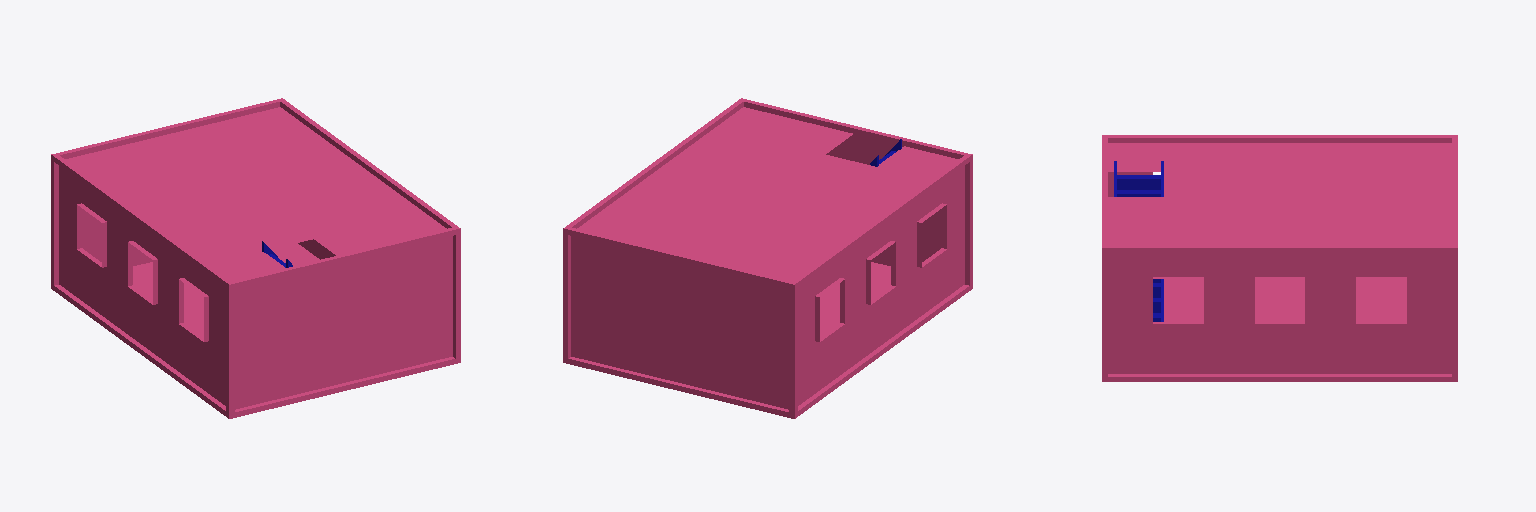
File: roomWithStairs.obj
3 views of the same model, side by side, from view 1: azimuth 30°, elevation 25°; view 2: azimuth 150°, elevation 25°; view 3: azimuth 270°, elevation 25° (orthographic).
Visible parts, largest first — view 1: Box001; view 2: Box001; view 3: Box001, StraightStair001.
Boxes of the visible parts, x1,y1,x2,y2 form: Box001: [51, 98, 460, 418]; Box001: [563, 98, 972, 418]; Box001: [1102, 135, 1457, 381]; StraightStair001: [1114, 161, 1163, 321].
Size of the model in its own units: 90 by 52 by 120.